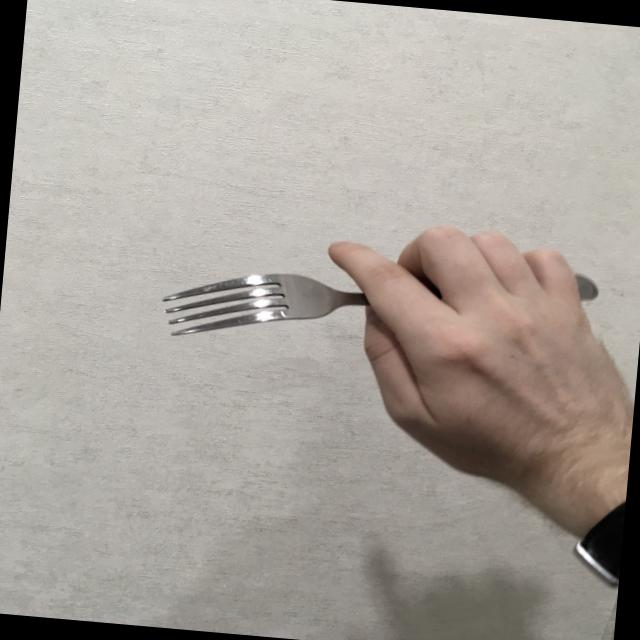fork: (160, 238, 600, 374)
